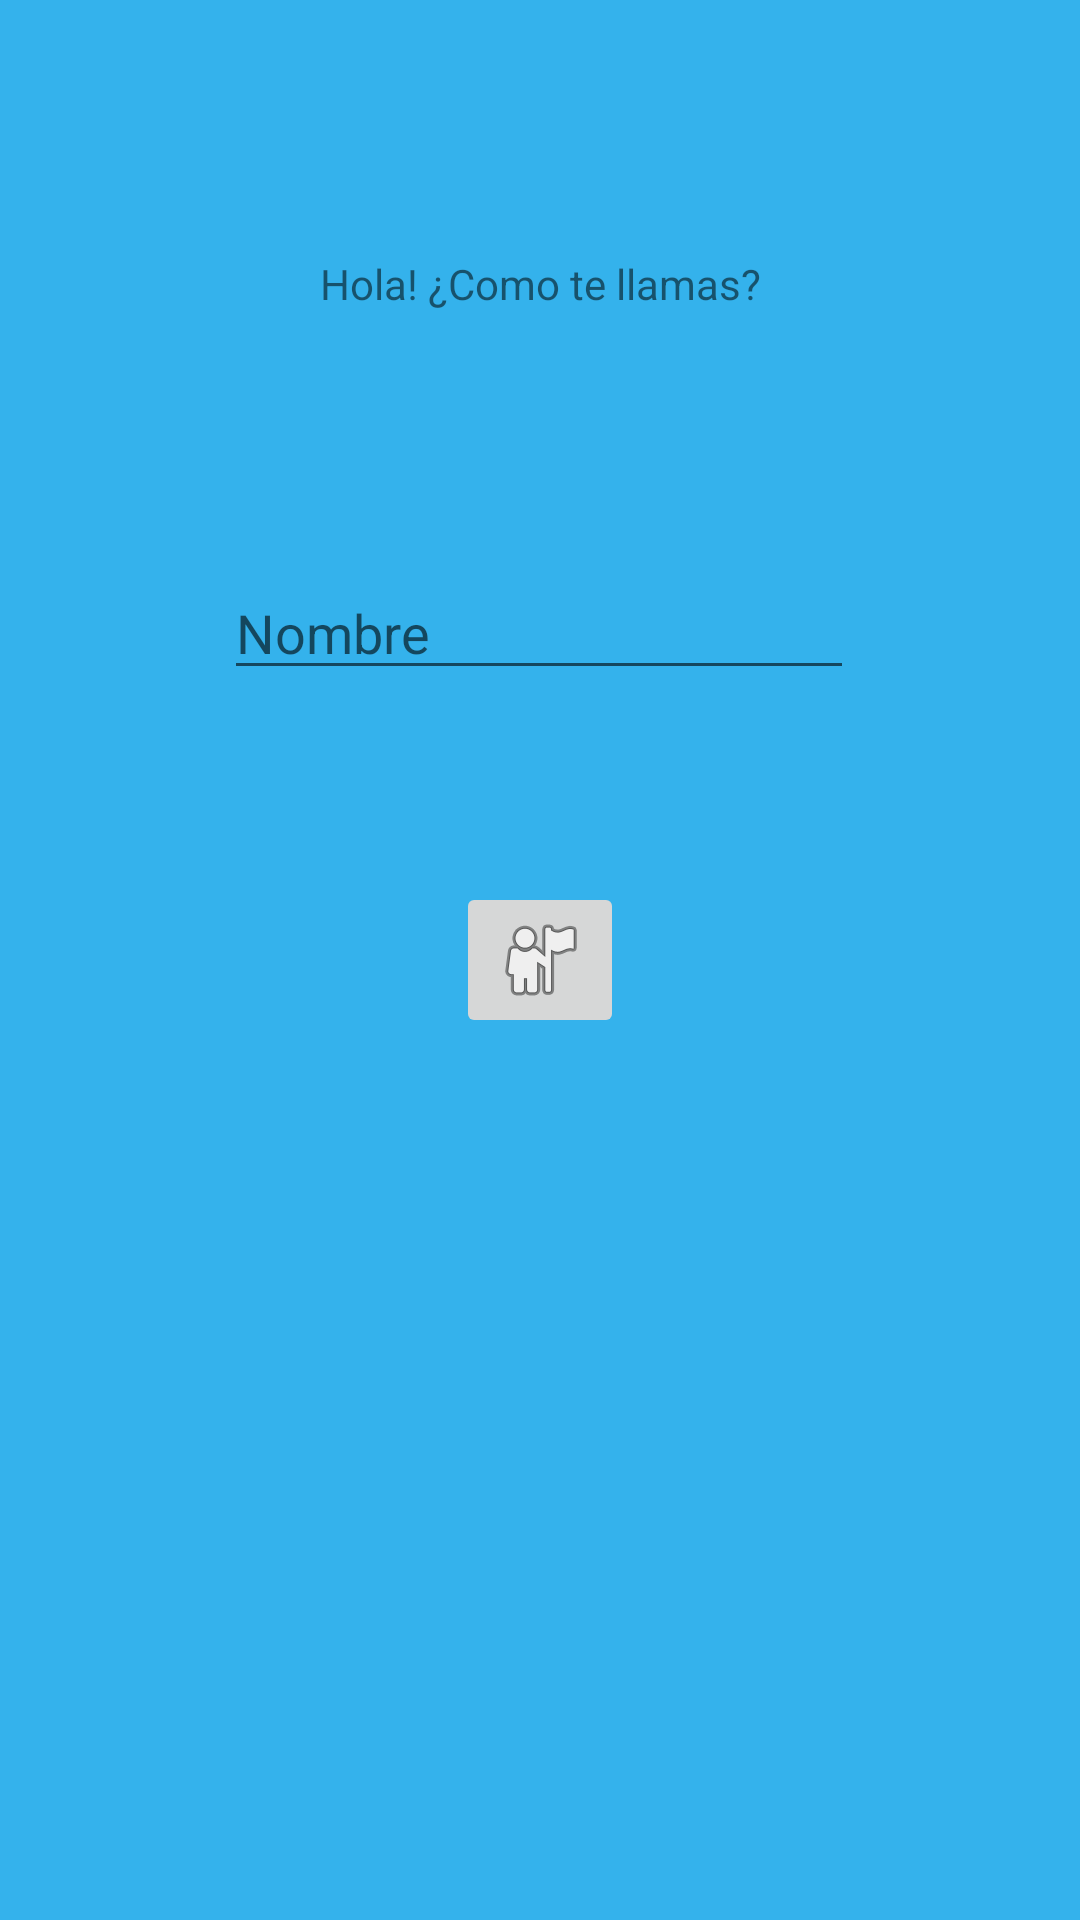

Point at icon controls on the screen. Image size 1080 x 1920, points as point (x, y).
myplaces: point (540, 960)
